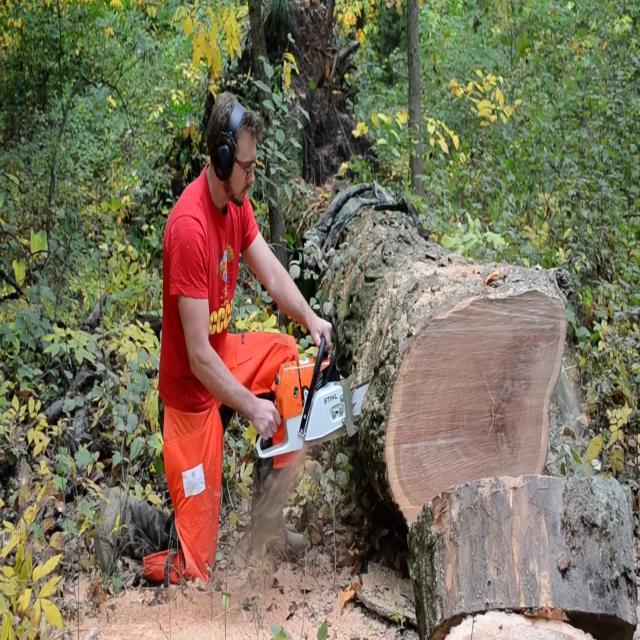Chainsaw: (230, 308, 405, 465)
